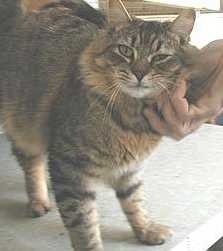Cat: (48, 0, 197, 250)
